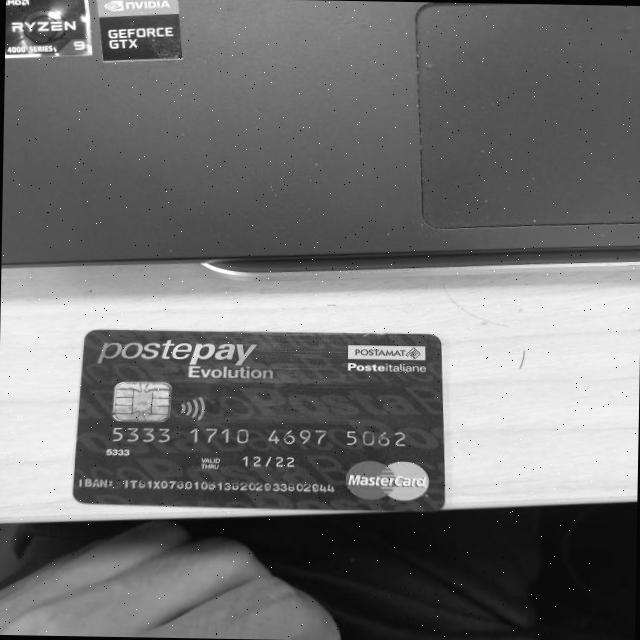card: (66, 324, 454, 520)
